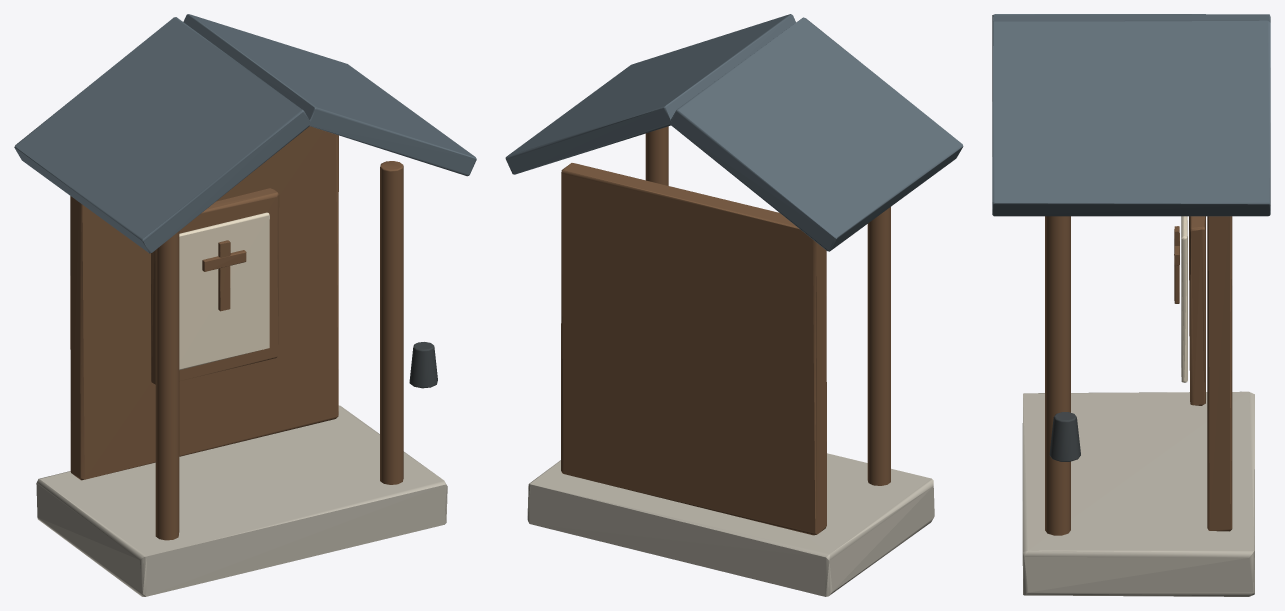
File: Prop_Roadside_Shrine_01_LOD1.fbx
3 renders of one model, left to right at view 1: azimuth 30°, elevation 25°; view 2: azimuth 150°, elevation 25°; view 3: azimuth 270°, elevation 25°, orthographic. The views are drawn at different scales.
Visible parts, largest first — view 1: Shrine_Back, Shrine_Base, Shrine_Roof_L, Shrine_Roof_R, Shrine_Icon, Shrine_Post_0.95, Shrine_Post_-0.95, Shrine_IconFrame, Shrine_Lamp, Shrine_CrossV; view 2: Shrine_Back, Shrine_Roof_L, Shrine_Base, Shrine_Roof_R, Shrine_Post_-0.95, Shrine_Post_0.95; view 3: Shrine_Roof_R, Shrine_Base, Shrine_Back, Shrine_Post_0.95, Shrine_IconFrame, Shrine_Roof_L, Shrine_Lamp, Shrine_Icon.
Boxes of the visible parts, x1=… form: Shrine_Back: x1=70, y1=126, x2=338, y2=480; Shrine_Base: x1=36, y1=405, x2=447, y2=596; Shrine_Roof_L: x1=14, y1=17, x2=310, y2=253; Shrine_Roof_R: x1=183, y1=14, x2=476, y2=176; Shrine_Icon: x1=179, y1=212, x2=269, y2=370; Shrine_Post_0.95: x1=380, y1=161, x2=403, y2=484; Shrine_Post_-0.95: x1=155, y1=231, x2=179, y2=540; Shrine_IconFrame: x1=151, y1=188, x2=279, y2=384; Shrine_Lamp: x1=409, y1=342, x2=437, y2=388; Shrine_CrossV: x1=218, y1=240, x2=230, y2=311; Shrine_Back: x1=561, y1=163, x2=826, y2=535; Shrine_Roof_L: x1=670, y1=17, x2=963, y2=251; Shrine_Base: x1=527, y1=453, x2=934, y2=596; Shrine_Roof_R: x1=505, y1=14, x2=795, y2=174; Shrine_Post_-0.95: x1=867, y1=207, x2=890, y2=485; Shrine_Post_0.95: x1=645, y1=126, x2=668, y2=185; Shrine_Roof_R: x1=992, y1=20, x2=1270, y2=216; Shrine_Base: x1=1022, y1=391, x2=1254, y2=596; Shrine_Back: x1=1207, y1=216, x2=1232, y2=531; Shrine_Post_0.95: x1=1045, y1=216, x2=1070, y2=535; Shrine_IconFrame: x1=1189, y1=216, x2=1205, y2=405; Shrine_Roof_L: x1=992, y1=14, x2=1270, y2=22; Shrine_Lamp: x1=1049, y1=412, x2=1080, y2=461; Shrine_Icon: x1=1181, y1=216, x2=1187, y2=382.
Size of the model in its own units: 284 by 375 by 189.
